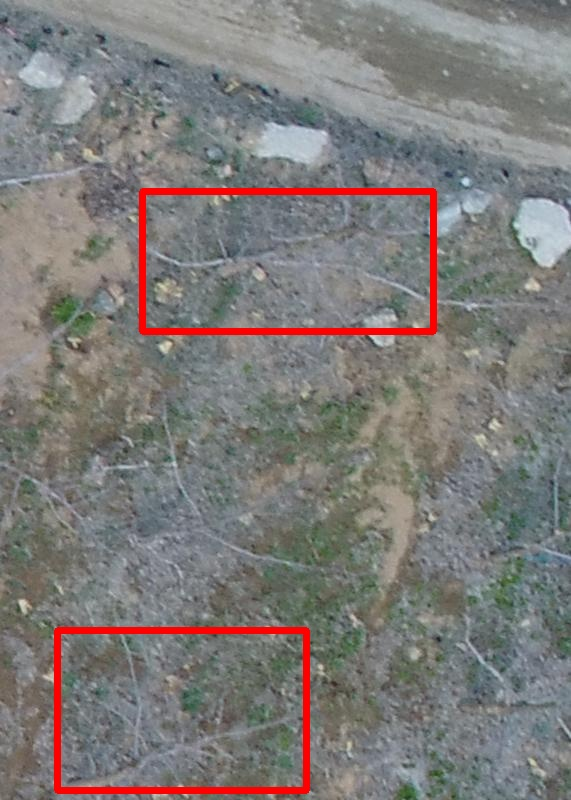apple: (142, 191, 433, 331), (57, 630, 306, 790)
